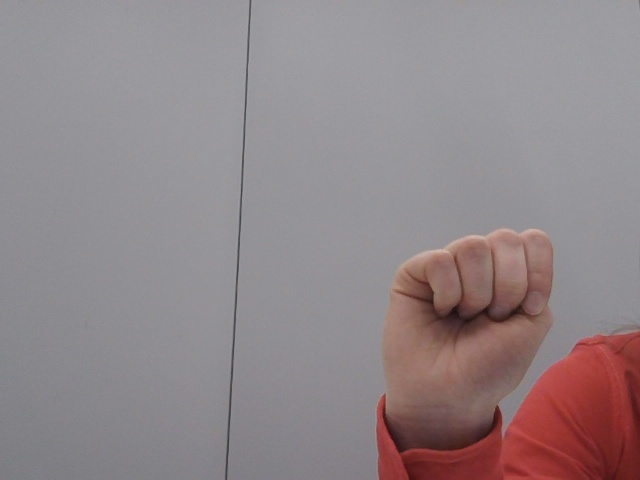down: (363, 213, 573, 456)
